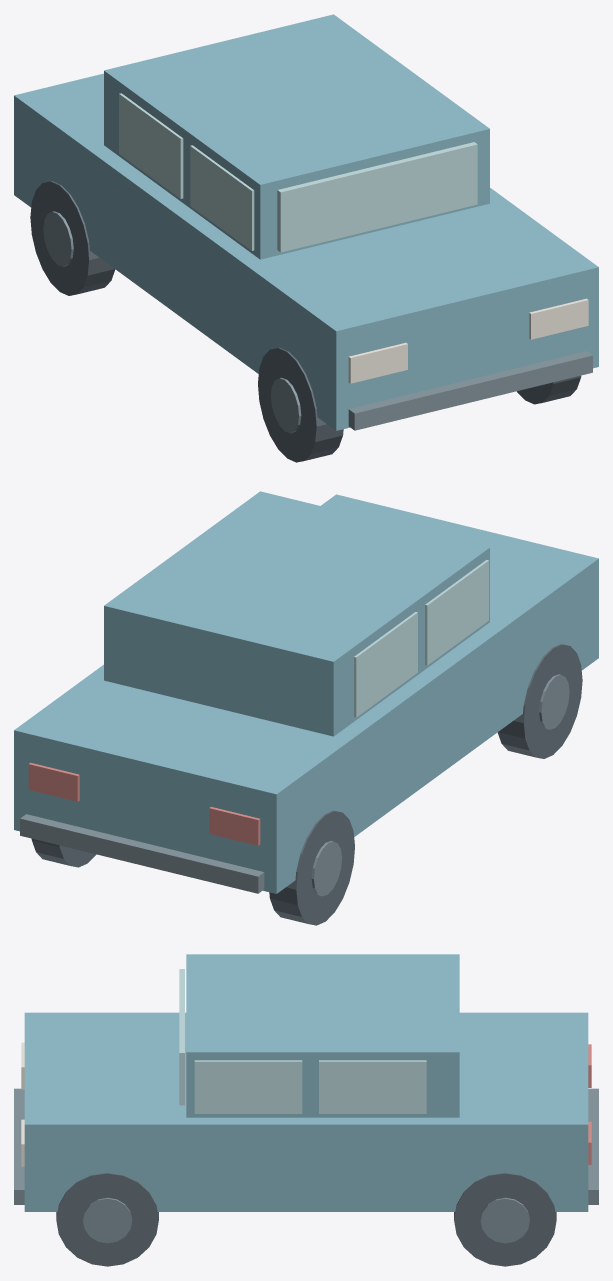
Rendered from sedan.glb.
3 renders of one model, top to bottom at view 1: azimuth 30°, elevation 25°; view 2: azimuth 150°, elevation 25°; view 3: azimuth 270°, elevation 25°, orthographic. The views are drawn at different scales.
Parts seen in each view (by area): view 1: sedan_000, sedan_009, sedan_010, sedan_021, sedan_001, sedan_003, sedan_011, sedan_012, sedan_017, sedan_019, sedan_004, sedan_002 (+1 smaller); view 2: sedan_000, sedan_009, sedan_022, sedan_003, sedan_001, sedan_012, sedan_011, sedan_020, sedan_018, sedan_002, sedan_004, sedan_007; view 3: sedan_000, sedan_009, sedan_014, sedan_005, sedan_007, sedan_015, sedan_006, sedan_008, sedan_022, sedan_021, sedan_010.
Boxes of the visible parts, x1,y1,x2,y2 form: sedan_000: (14, 73, 598, 430); sedan_009: (104, 14, 489, 259); sedan_010: (277, 142, 477, 252); sedan_021: (348, 351, 592, 430); sedan_001: (258, 347, 343, 462); sedan_003: (30, 181, 115, 295); sedan_011: (190, 145, 254, 250); sedan_012: (119, 93, 183, 198); sedan_017: (348, 342, 407, 383); sedan_019: (529, 298, 588, 339); sedan_004: (43, 211, 73, 266); sedan_002: (271, 377, 301, 433); sedan_000: (14, 494, 598, 893); sedan_009: (104, 491, 489, 736); sedan_022: (20, 814, 264, 893); sedan_003: (269, 810, 354, 925); sedan_001: (497, 644, 582, 758); sedan_012: (354, 612, 417, 717); sedan_011: (425, 560, 488, 665); sedan_020: (28, 762, 79, 801); sedan_018: (209, 807, 260, 845); sedan_002: (539, 674, 569, 729); sedan_004: (311, 841, 341, 896); sedan_007: (31, 838, 96, 867); sedan_000: (24, 1012, 588, 1211); sedan_009: (186, 954, 459, 1117); sedan_014: (194, 1060, 302, 1113); sedan_005: (56, 1173, 158, 1266); sedan_007: (454, 1173, 556, 1266); sedan_015: (319, 1060, 426, 1113); sedan_006: (83, 1197, 132, 1243); sedan_008: (480, 1197, 529, 1243); sedan_022: (588, 1088, 598, 1204); sedan_021: (14, 1088, 24, 1204); sedan_010: (179, 969, 184, 1105).
Size of the model in its own units: 1.65 by 1.38 by 3.53.
